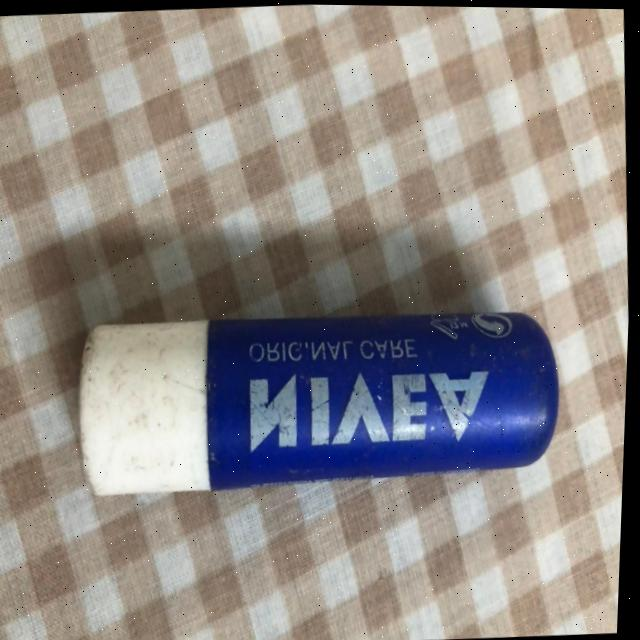concealer: (68, 280, 581, 516)
